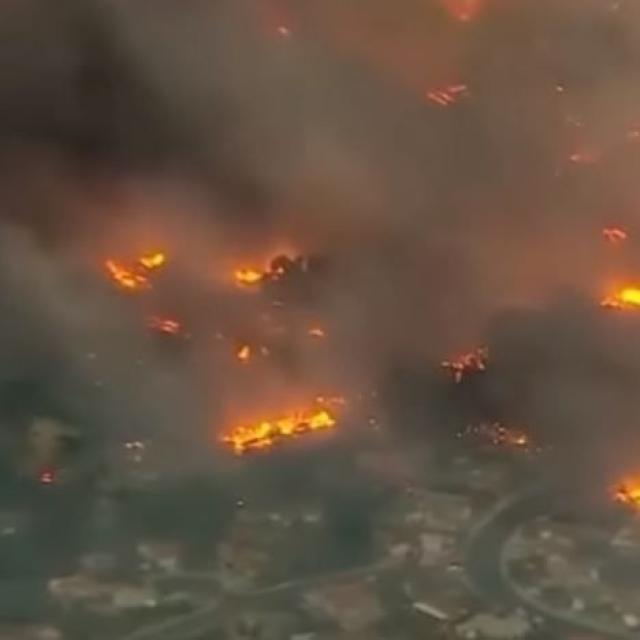Fire: (228, 406, 340, 466), (102, 238, 176, 298), (250, 243, 282, 290)
Smoke: (26, 22, 631, 484)
